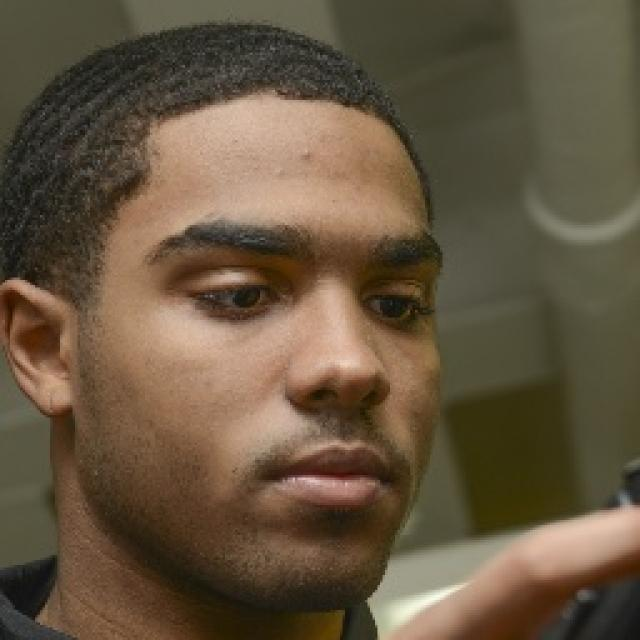earlobe: (36, 374, 73, 417)
eye: (187, 279, 284, 310), (368, 288, 429, 325)
nose: (294, 398, 386, 436)
wholeear: (0, 278, 73, 416)
